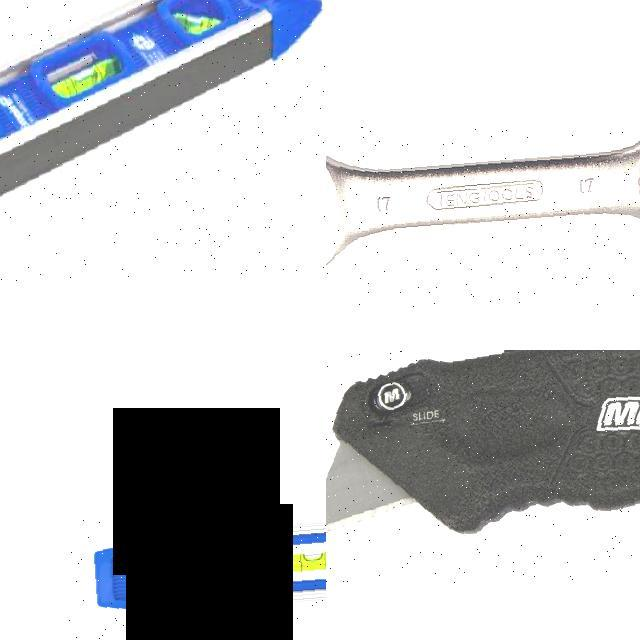estilete: (327, 350, 639, 533)
